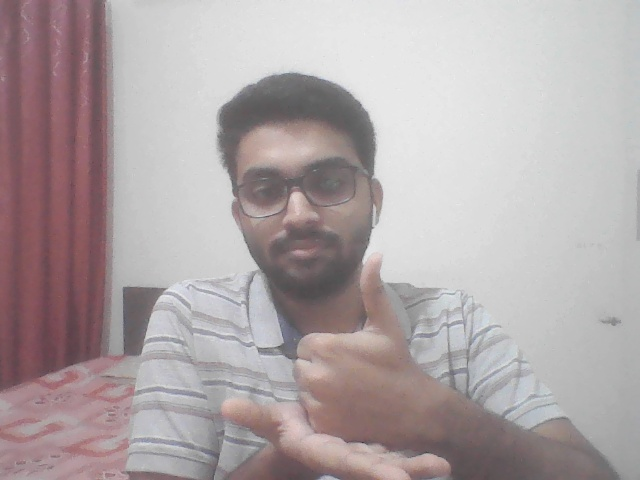help: (218, 236, 470, 477)
